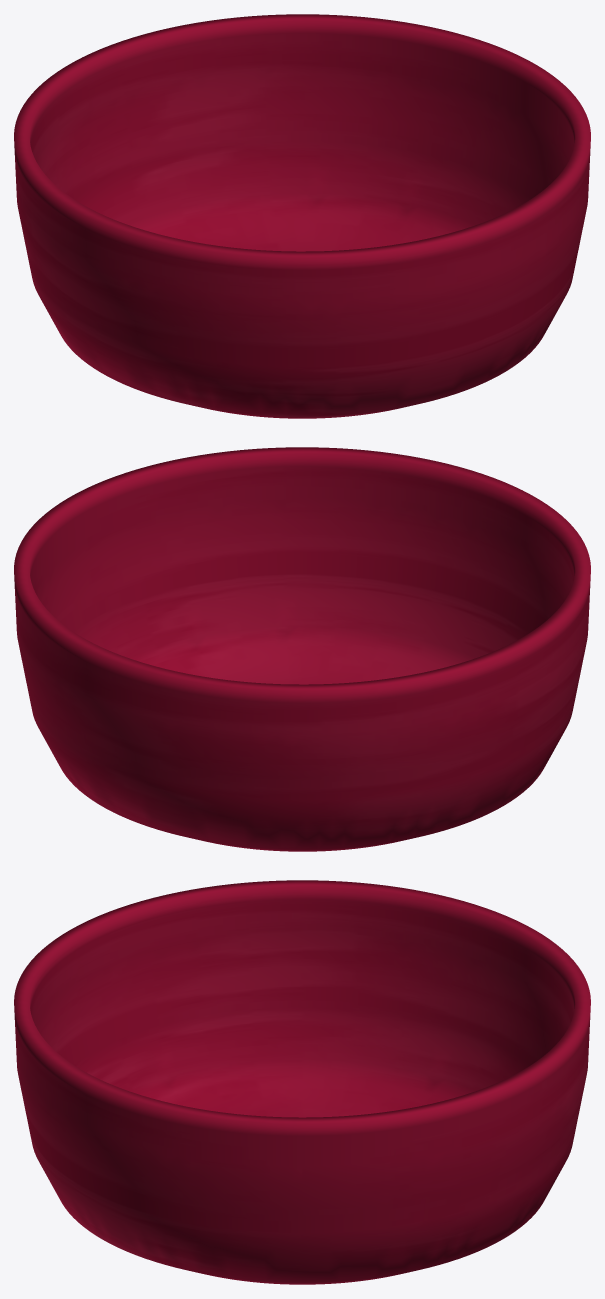
3 views of the same model, one above another, from view 1: azimuth 30°, elevation 25°; view 2: azimuth 150°, elevation 25°; view 3: azimuth 270°, elevation 25° (orthographic).
Visible parts, largest first — view 1: body; view 2: body; view 3: body.
Boxes of the visible parts, <box> form: body: <box>14,14,590,418</box>; body: <box>14,447,590,851</box>; body: <box>14,880,590,1284</box>.
Bounding box in the file's own units: 0.118 × 0.046 × 0.118.
1 material, 1 textured.
